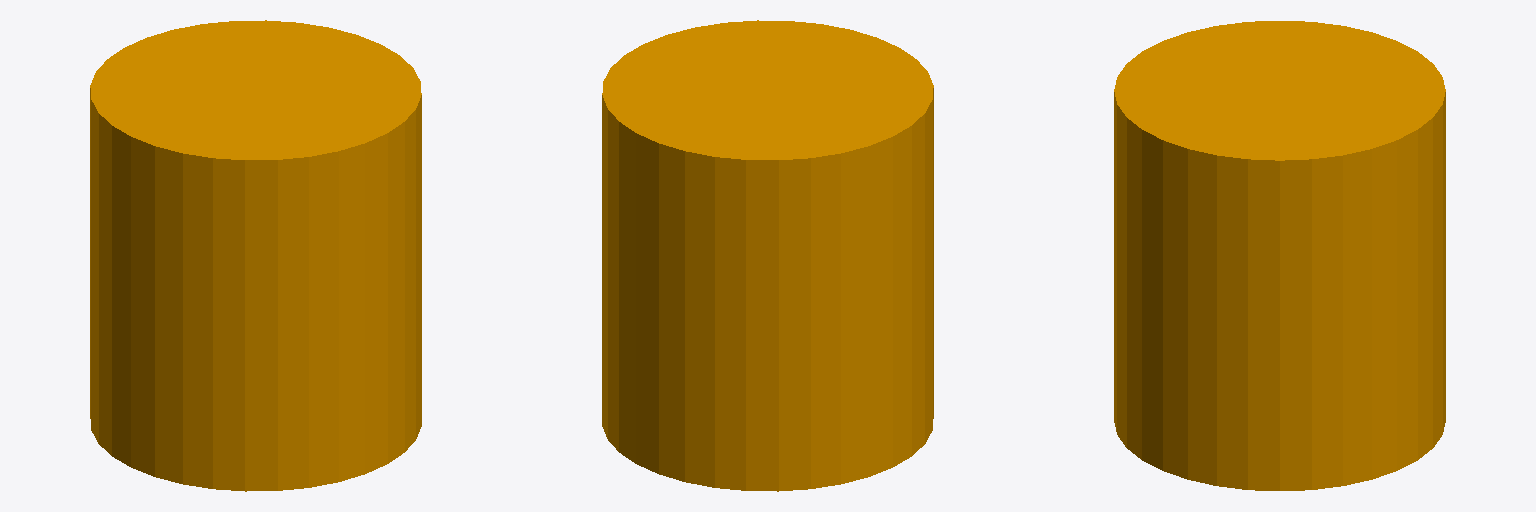
URDF robot description (object):
<robot name="object">
  <link name="object">
    <visual>
      <origin xyz="0 0 0" />
      <geometry>
        <cylinder length="0.08800000000000002" radius="0.04" />
      </geometry>
    </visual>

    <collision>
      <origin xyz="0 0 0" />
      <geometry>
        <cylinder length="0.08800000000000002" radius="0.04" />
      </geometry>
    </collision>

    <inertial>
      <mass value="0.05" />
      <inertia ixx="0.0001" ixy="0.0" ixz="0.0" iyy="0.0001" iyz="0.0" izz="0.0001" />
    </inertial>
  </link>
</robot>

--- What the picture shows (computed from the rendered views, not written in the file) ---
3 views of the same robot in one strip: view 1: azimuth 30°, elevation 25°; view 2: azimuth 150°, elevation 25°; view 3: azimuth 270°, elevation 25° (orthographic).
Model object with 1 links and 0 joints (none), rooted at object, posed all joints at 0.
Visible links, largest first — view 1: object; view 2: object; view 3: object.
Link boxes in pixels (x1=…): object: x1=90, y1=20, x2=421, y2=491; object: x1=602, y1=20, x2=933, y2=491; object: x1=1114, y1=21, x2=1445, y2=490.
Size in the robot's own frame: 0.08 by 0.08 by 0.088 metres.
Geometry: primitives only (box / cylinder / sphere), no mesh files.